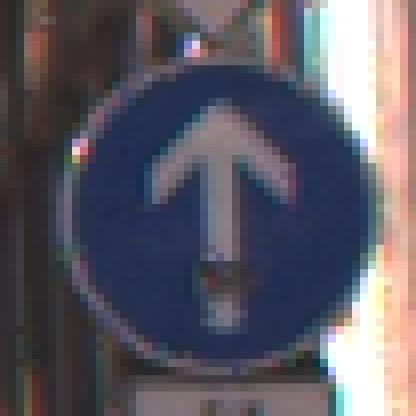AheadOnly: (49, 42, 369, 376)
